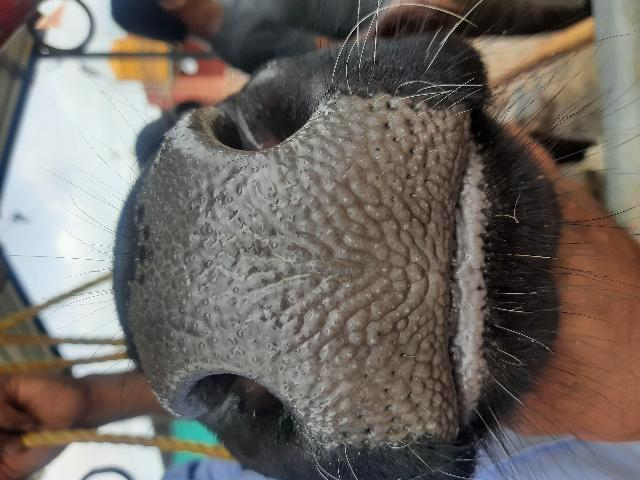Muzzle: (155, 149, 459, 379)
